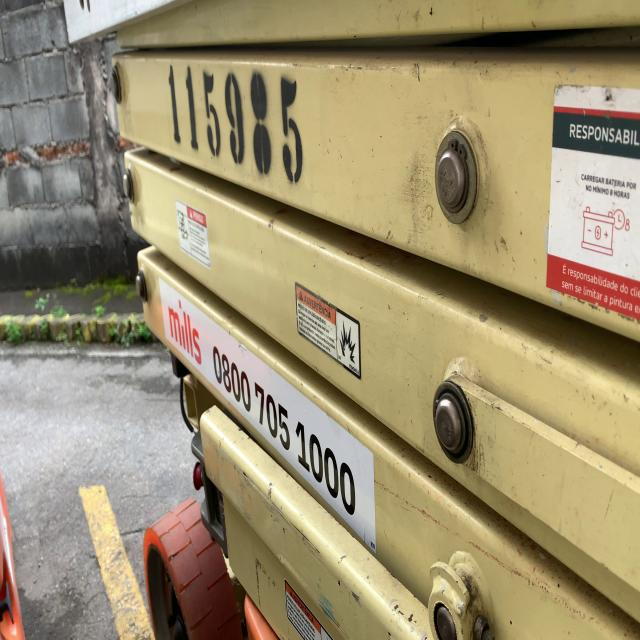Adesivo Longo: (157, 276, 378, 558)
